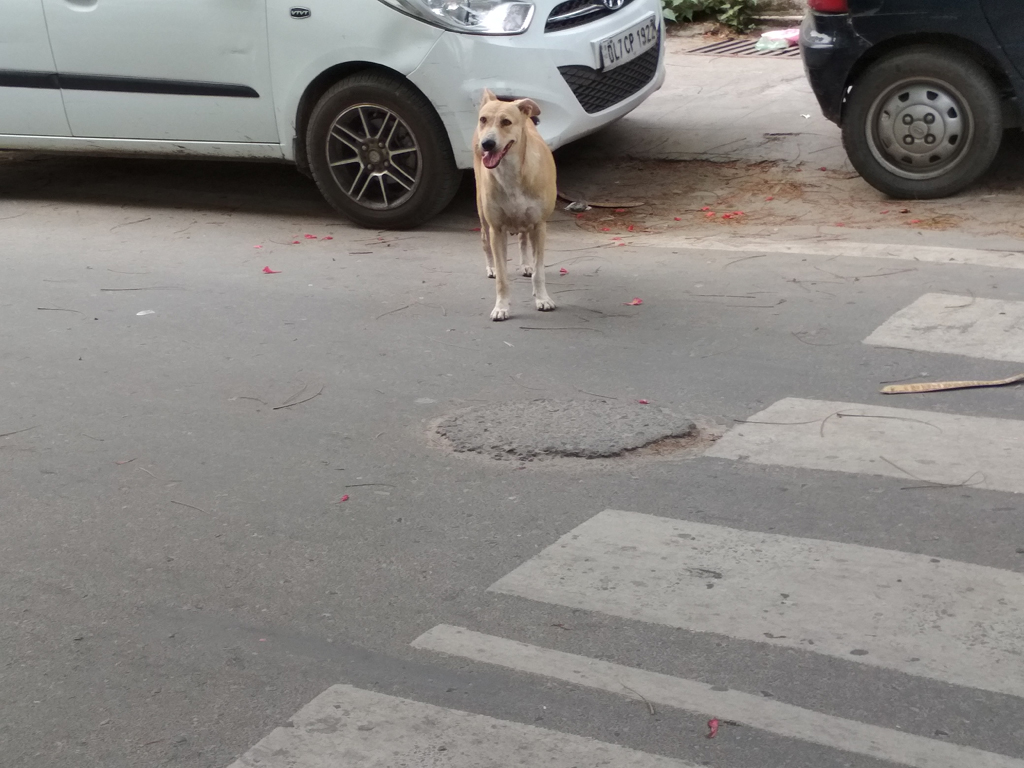dog: (473, 87, 557, 322)
